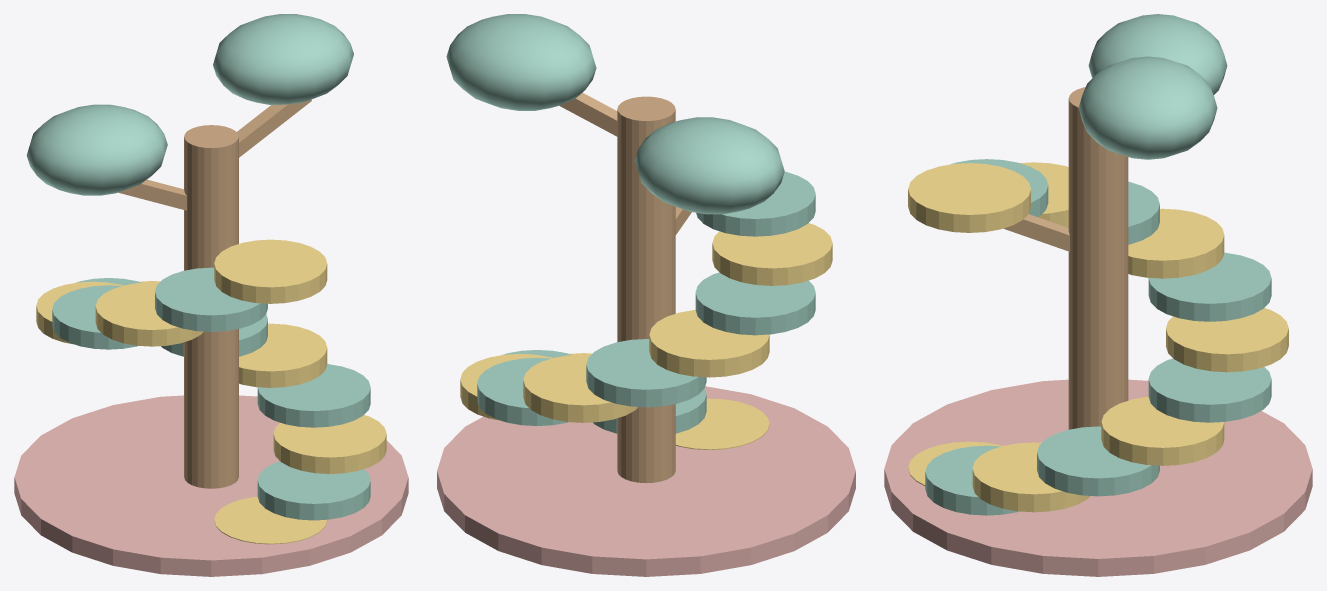
File: play-tree.glb
3 views of the same model, side by side, from view 1: azimuth 30°, elevation 25°; view 2: azimuth 150°, elevation 25°; view 3: azimuth 270°, elevation 25° (orthographic). The views are drawn at different scales.
Parts seen in each view (by area): view 1: leaf canopy.001, tree mat, spiral cushion, friendly branch; view 2: tree mat, leaf canopy.001, spiral cushion, friendly branch; view 3: tree mat, leaf canopy.001, spiral cushion, friendly branch.
Boxes of the visible parts, <box> form: leaf canopy.001: <box>26,14,370,520</box>; tree mat: <box>14,395,408,576</box>; spiral cushion: <box>36,239,386,544</box>; friendly branch: <box>118,99,311,488</box>; tree mat: <box>437,386,855,576</box>; leaf canopy.001: <box>446,14,815,433</box>; spiral cushion: <box>460,223,832,449</box>; friendly branch: <box>559,92,691,483</box>; tree mat: <box>884,379,1312,576</box>; leaf canopy.001: <box>925,14,1271,515</box>; spiral cushion: <box>908,162,1288,512</box>; friendly branch: <box>1003,87,1128,429</box>.
Bounding box in the file's own units: 2.16 × 2.6 × 2.16.
